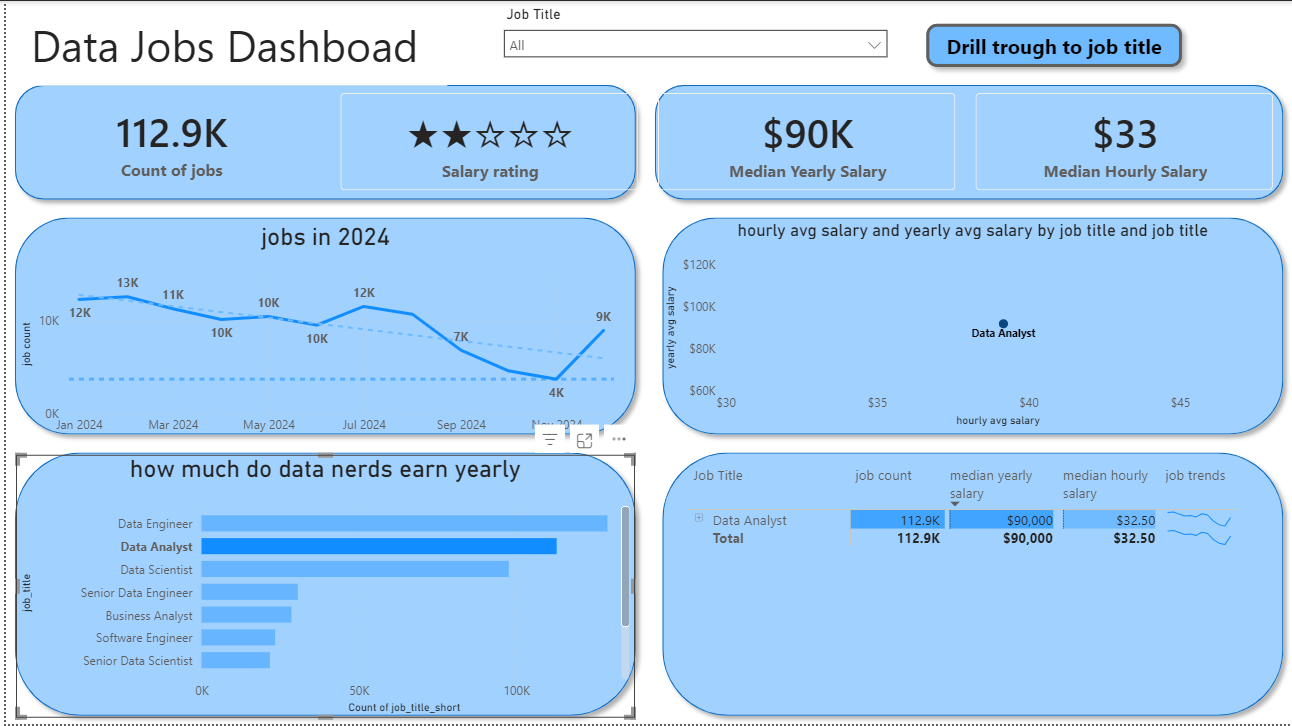

What the dashboard file says about the page in this screenshot:
{"tool":"powerbi","page":{"name":"Dashboard","canvas":[1280,720],"ordinal":0},"visuals":[{"type":"slicer","fields":{"Values":["job_postings_flat.job_title_short"]},"box":[485.1,0,401.8,74.6],"z":0,"group":"g1"},{"type":"group","id":"g1","title":"Group 1","box":[0,0,1280,720.3],"z":1},{"type":"textbox","box":[20,10,419.2,74.6],"z":2},{"type":"cardVisual","fields":{"Data":["CountNonNull(job_postings_flat.job_title_short)","job_postings_flat.Median of salary_year_avg star rating","Median(job_postings_flat.salary_year_avg)","Median(job_postings_flat.salary_hour_avg)"]},"box":[0,74.6,1280,131.9],"z":3},{"type":"lineChart","title":"jobs in 2024","fields":{"Category":["job_postings_flat.job_posted_date.Variation.Date Hierarchy.Year","job_postings_flat.job_posted_date.Variation.Date Hierarchy.Quarter","job_postings_flat.job_posted_date.Variation.Date Hierarchy.Month","job_postings_flat.job_posted_date.Variation.Date Hierarchy.Day"],"Y":["CountNonNull(job_postings_flat.job_title_short)"]},"box":[10,220.2,615.8,220.2],"z":4},{"type":"clusteredBarChart","title":"how much do data nerds earn yearly","fields":{"Category":["job_postings_flat.job_title_short"],"Y":["CountNonNull(job_postings_flat.job_title_short)"]},"box":[10,451.6,615.8,262.5],"z":5},{"type":"scatterChart","fields":{"Category":["job_postings_flat.job_title_short"],"X":["Avg(job_postings_flat.salary_hour_avg)"],"Y":["Avg(job_postings_flat.salary_year_avg)"],"Series":["job_postings_flat.job_title_short"]},"box":[650.6,217.7,623.2,210.2],"z":6},{"type":"pivotTable","fields":{"Rows":["job_postings_flat.job_title_short","job_postings_flat.job_posted_date.Variation.Date Hierarchy.Quarter"],"Values":["CountNonNull(job_postings_flat.job_title_short)","Median(job_postings_flat.salary_year_avg)","Median(job_postings_flat.salary_hour_avg)","SparklineData(CountNonNull(job_postings_flat.job_title_short)_[job_postings_flat.job_posted_date.Variation.Date Hierarch"]},"box":[674.2,457.8,571,251.3],"z":7},{"type":"actionButton","box":[906.8,13.7,272.4,61],"z":9},{"type":"shape","box":[0,74.6,635.7,131.9],"z":1000,"group":"g1"},{"type":"shape","box":[636.9,74.6,643.1,131.9],"z":2000,"group":"g1"},{"type":"shape","box":[0,206.5,635.7,233.9],"z":3000,"group":"g1"},{"type":"shape","box":[644.4,206.5,635.7,233.9],"z":4000,"group":"g1"},{"type":"shape","box":[0,440.4,635.7,279.9],"z":5000,"group":"g1"},{"type":"shape","box":[644.4,440.4,635.7,279.9],"z":6000,"group":"g1"}]}

Visuals, with their boxes in screenshot pixels (x1, y1, x2, y2), scaled from the page's 1280x720 canvas onto the 1292x726 screenshot:
slicer - job_postings_flat.job_title_short: (490, 0, 895, 75)
"Group 1" group: (0, 0, 1291, 725)
textbox: (20, 10, 443, 85)
cardVisual - CountNonNull(job_postings_flat.job_title_short) x job_postings_flat.Median of salary_year_avg star rating: (0, 75, 1291, 208)
"jobs in 2024" lineChart: (10, 222, 632, 444)
"how much do data nerds earn yearly" clusteredBarChart: (10, 455, 632, 720)
scatterChart - job_postings_flat.job_title_short x Avg(job_postings_flat.salary_hour_avg): (657, 220, 1286, 431)
pivotTable - job_postings_flat.job_title_short x job_postings_flat.job_posted_date.Variation.Date Hierarchy.Quarter: (681, 462, 1257, 715)
actionButton: (915, 14, 1190, 75)
shape: (0, 75, 642, 208)
shape: (643, 75, 1291, 208)
shape: (0, 208, 642, 444)
shape: (650, 208, 1291, 444)
shape: (0, 444, 642, 725)
shape: (650, 444, 1291, 725)
